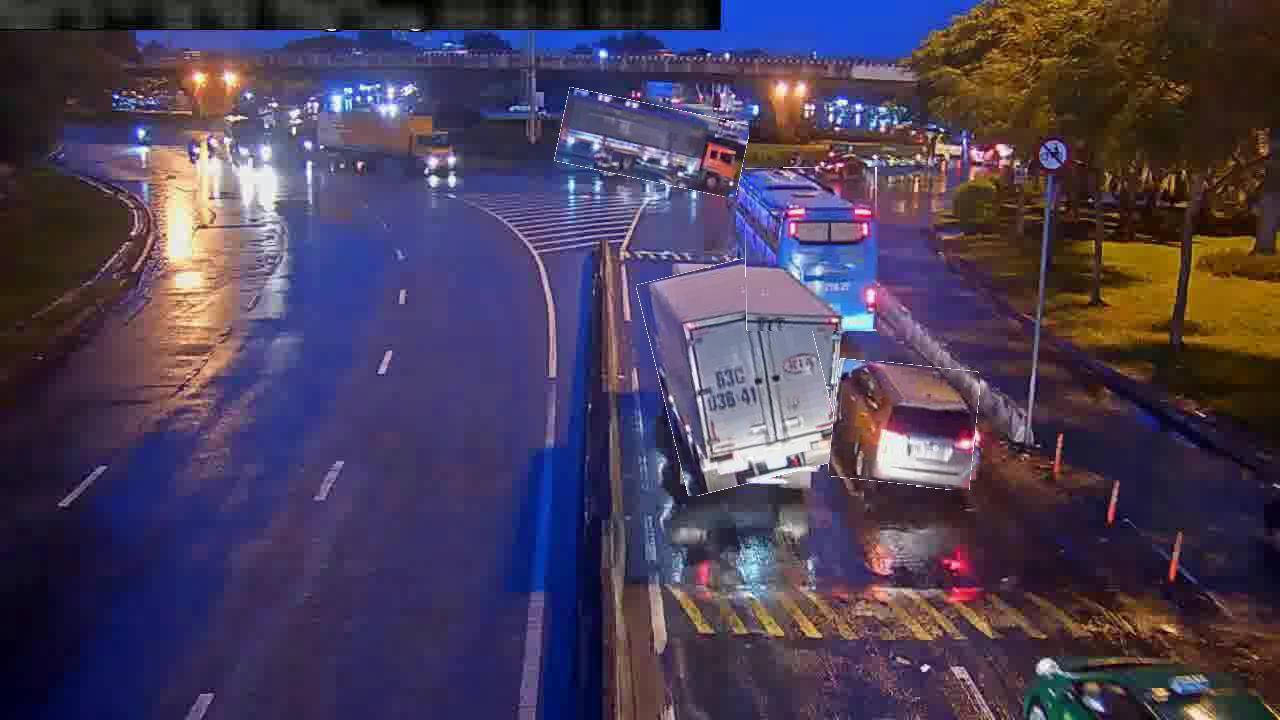14: (746, 168, 878, 332)
8: (648, 254, 832, 489), (557, 96, 748, 189)
container: (831, 362, 979, 488)
